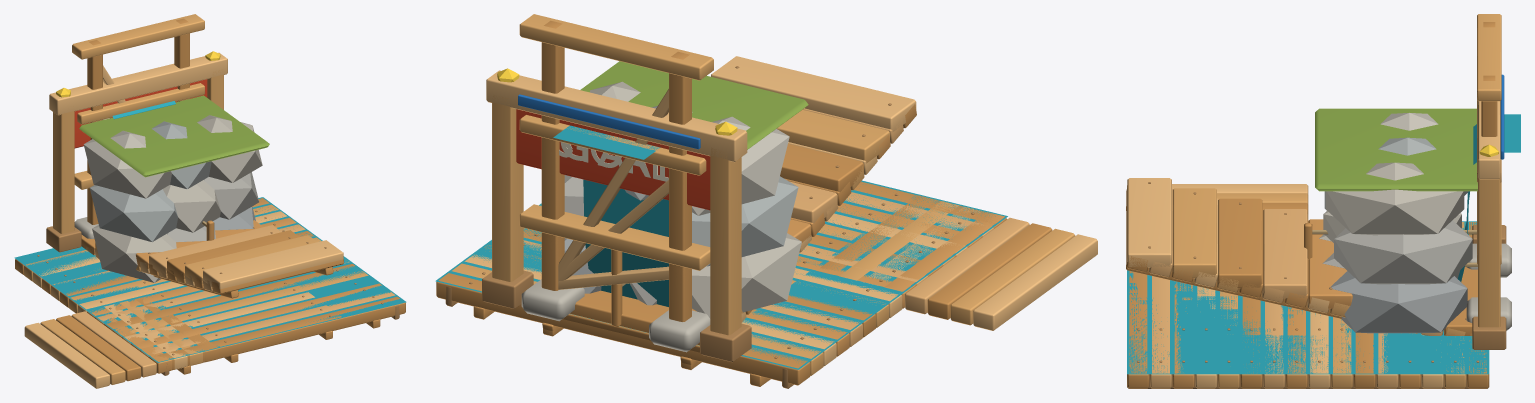
Rendered from CreekModularKit.fbx.
The picture shows the model from 3 angles, left to right: view 1: azimuth 30°, elevation 25°; view 2: azimuth 150°, elevation 25°; view 3: azimuth 270°, elevation 25°; orthographic projection. The views are drawn at different scales.
Parts seen in each view (by area): view 1: Water plane.001, Moss cap.001, Frame lintel.001, Faceted cliff.014, Deck plank 07.008, Faceted cliff.017, Frame upright.003, Deck plank 15.005, Faceted cliff.011, Cross head.005, Faceted cliff.013, Exit plank.015 (+41 smaller); view 2: Water plane.001, Moss cap.001, Frame lintel.001, Deck plank 07.008, Frame upright.003, Waterfall curtain.001, Frame upright.002, Cross head.005, Banner.003, Cross head.003, Exit plank.015, Faceted cliff.011 (+48 smaller); view 3: Water plane.001, Moss cap.001, Faceted cliff.012, Faceted cliff.015, Faceted cliff.009, Deck plank 05.008, Deck plank 07.008, Deck plank 06.008, Deck plank 04.008, Frame upright.002, Cross head.005, Deck plank 14.005 (+37 smaller).
Boxes of the visible parts, x1,y1,x2,y2 form: Water plane.001: (14,197,406,362); Moss cap.001: (79,95,269,177); Frame lintel.001: (49,52,227,115); Faceted cliff.014: (89,185,178,241); Deck plank 07.008: (203,240,343,288); Faceted cliff.017: (83,130,171,198); Frame upright.003: (53,106,74,233); Deck plank 15.005: (150,296,405,373); Faceted cliff.011: (92,224,176,282); Cross head.005: (72,14,204,59); Faceted cliff.013: (162,180,220,232); Exit plank.015: (24,322,110,388); Water plane.001: (435,180,1007,369); Moss cap.001: (580,61,808,149); Frame lintel.001: (486,70,747,162); Deck plank 07.008: (711,56,916,131); Frame upright.003: (710,147,741,335); Waterfall curtain.001: (553,125,668,306); Frame upright.002: (492,95,523,281); Cross head.005: (519,14,713,80); Banner.003: (516,109,710,210); Cross head.003: (519,204,710,270); Exit plank.015: (973,234,1097,330); Faceted cliff.011: (692,233,801,317); Water plane.001: (1127,221,1489,374); Moss cap.001: (1315,108,1477,191); Faceted cliff.012: (1334,220,1472,284); Faceted cliff.015: (1325,162,1464,235); Faceted cliff.009: (1329,271,1467,333); Deck plank 05.008: (1218,198,1262,288); Deck plank 07.008: (1127,178,1171,267); Deck plank 06.008: (1172,188,1216,278); Deck plank 04.008: (1263,209,1307,298); Frame upright.002: (1478,178,1500,327); Cross head.005: (1477,14,1501,101); Deck plank 14.005: (1150,276,1171,388).
Size of the model in its own units: 99.9 by 65.75 by 87.23.
